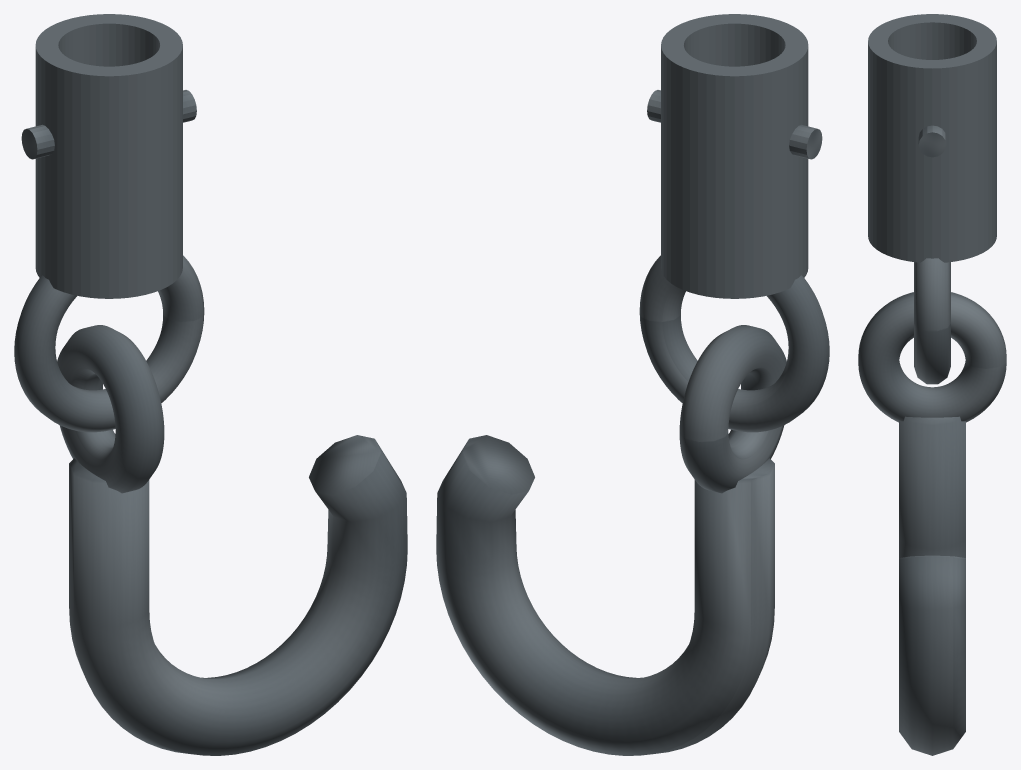
The model's file is terminal.hoist.end.r02.glb.
The picture shows the model from 3 angles, left to right: view 1: azimuth 30°, elevation 25°; view 2: azimuth 150°, elevation 25°; view 3: azimuth 270°, elevation 25°; orthographic projection. The views are drawn at different scales.
Parts seen in each view (by area): view 1: terminal.hoist.r02.hook, terminal.hoist.r02.termination, terminal.hoist.r02.link; view 2: terminal.hoist.r02.hook, terminal.hoist.r02.termination, terminal.hoist.r02.link; view 3: terminal.hoist.r02.hook, terminal.hoist.r02.termination, terminal.hoist.r02.link.
Boxes of the visible parts, bbox=[...] form: terminal.hoist.r02.hook: bbox=[57, 325, 407, 755]; terminal.hoist.r02.termination: bbox=[21, 14, 196, 298]; terminal.hoist.r02.link: bbox=[14, 255, 204, 432]; terminal.hoist.r02.hook: bbox=[436, 325, 786, 755]; terminal.hoist.r02.termination: bbox=[647, 14, 822, 298]; terminal.hoist.r02.link: bbox=[639, 255, 829, 432]; terminal.hoist.r02.hook: bbox=[858, 292, 1006, 755]; terminal.hoist.r02.termination: bbox=[868, 14, 996, 262]; terminal.hoist.r02.link: bbox=[914, 258, 950, 384].
Bounding box in the file's own units: 0.2534 × 0.463 × 0.0966.
Materials: 1 (1 with a texture image).
